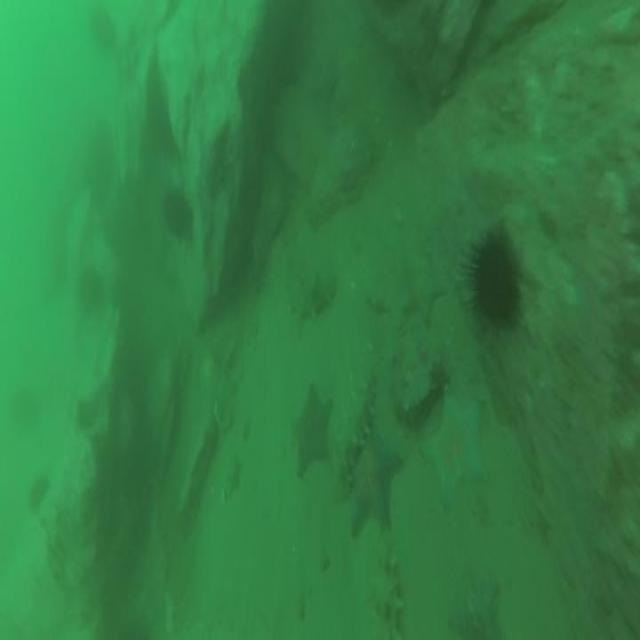echinus: (456, 220, 526, 344), (159, 180, 197, 248)
holothurian: (342, 363, 381, 508), (284, 266, 339, 334)
starfish: (418, 381, 492, 504), (341, 422, 407, 536), (289, 378, 337, 483), (448, 564, 504, 640), (401, 250, 445, 327)
